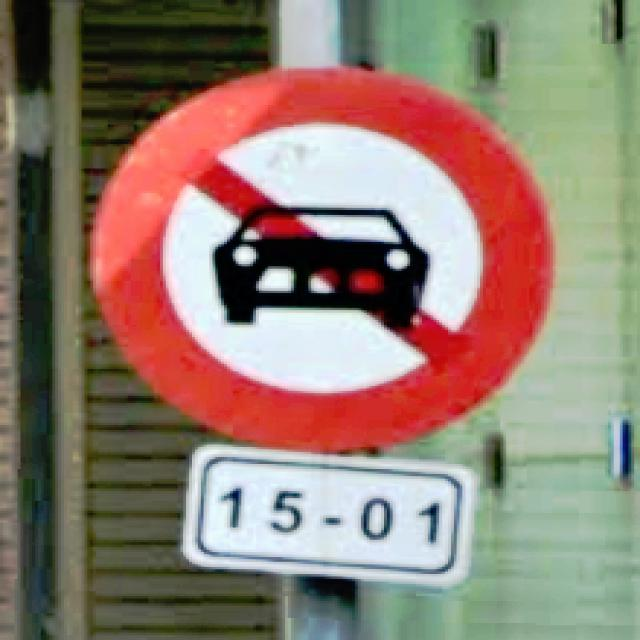nocar: (90, 68, 553, 452)
